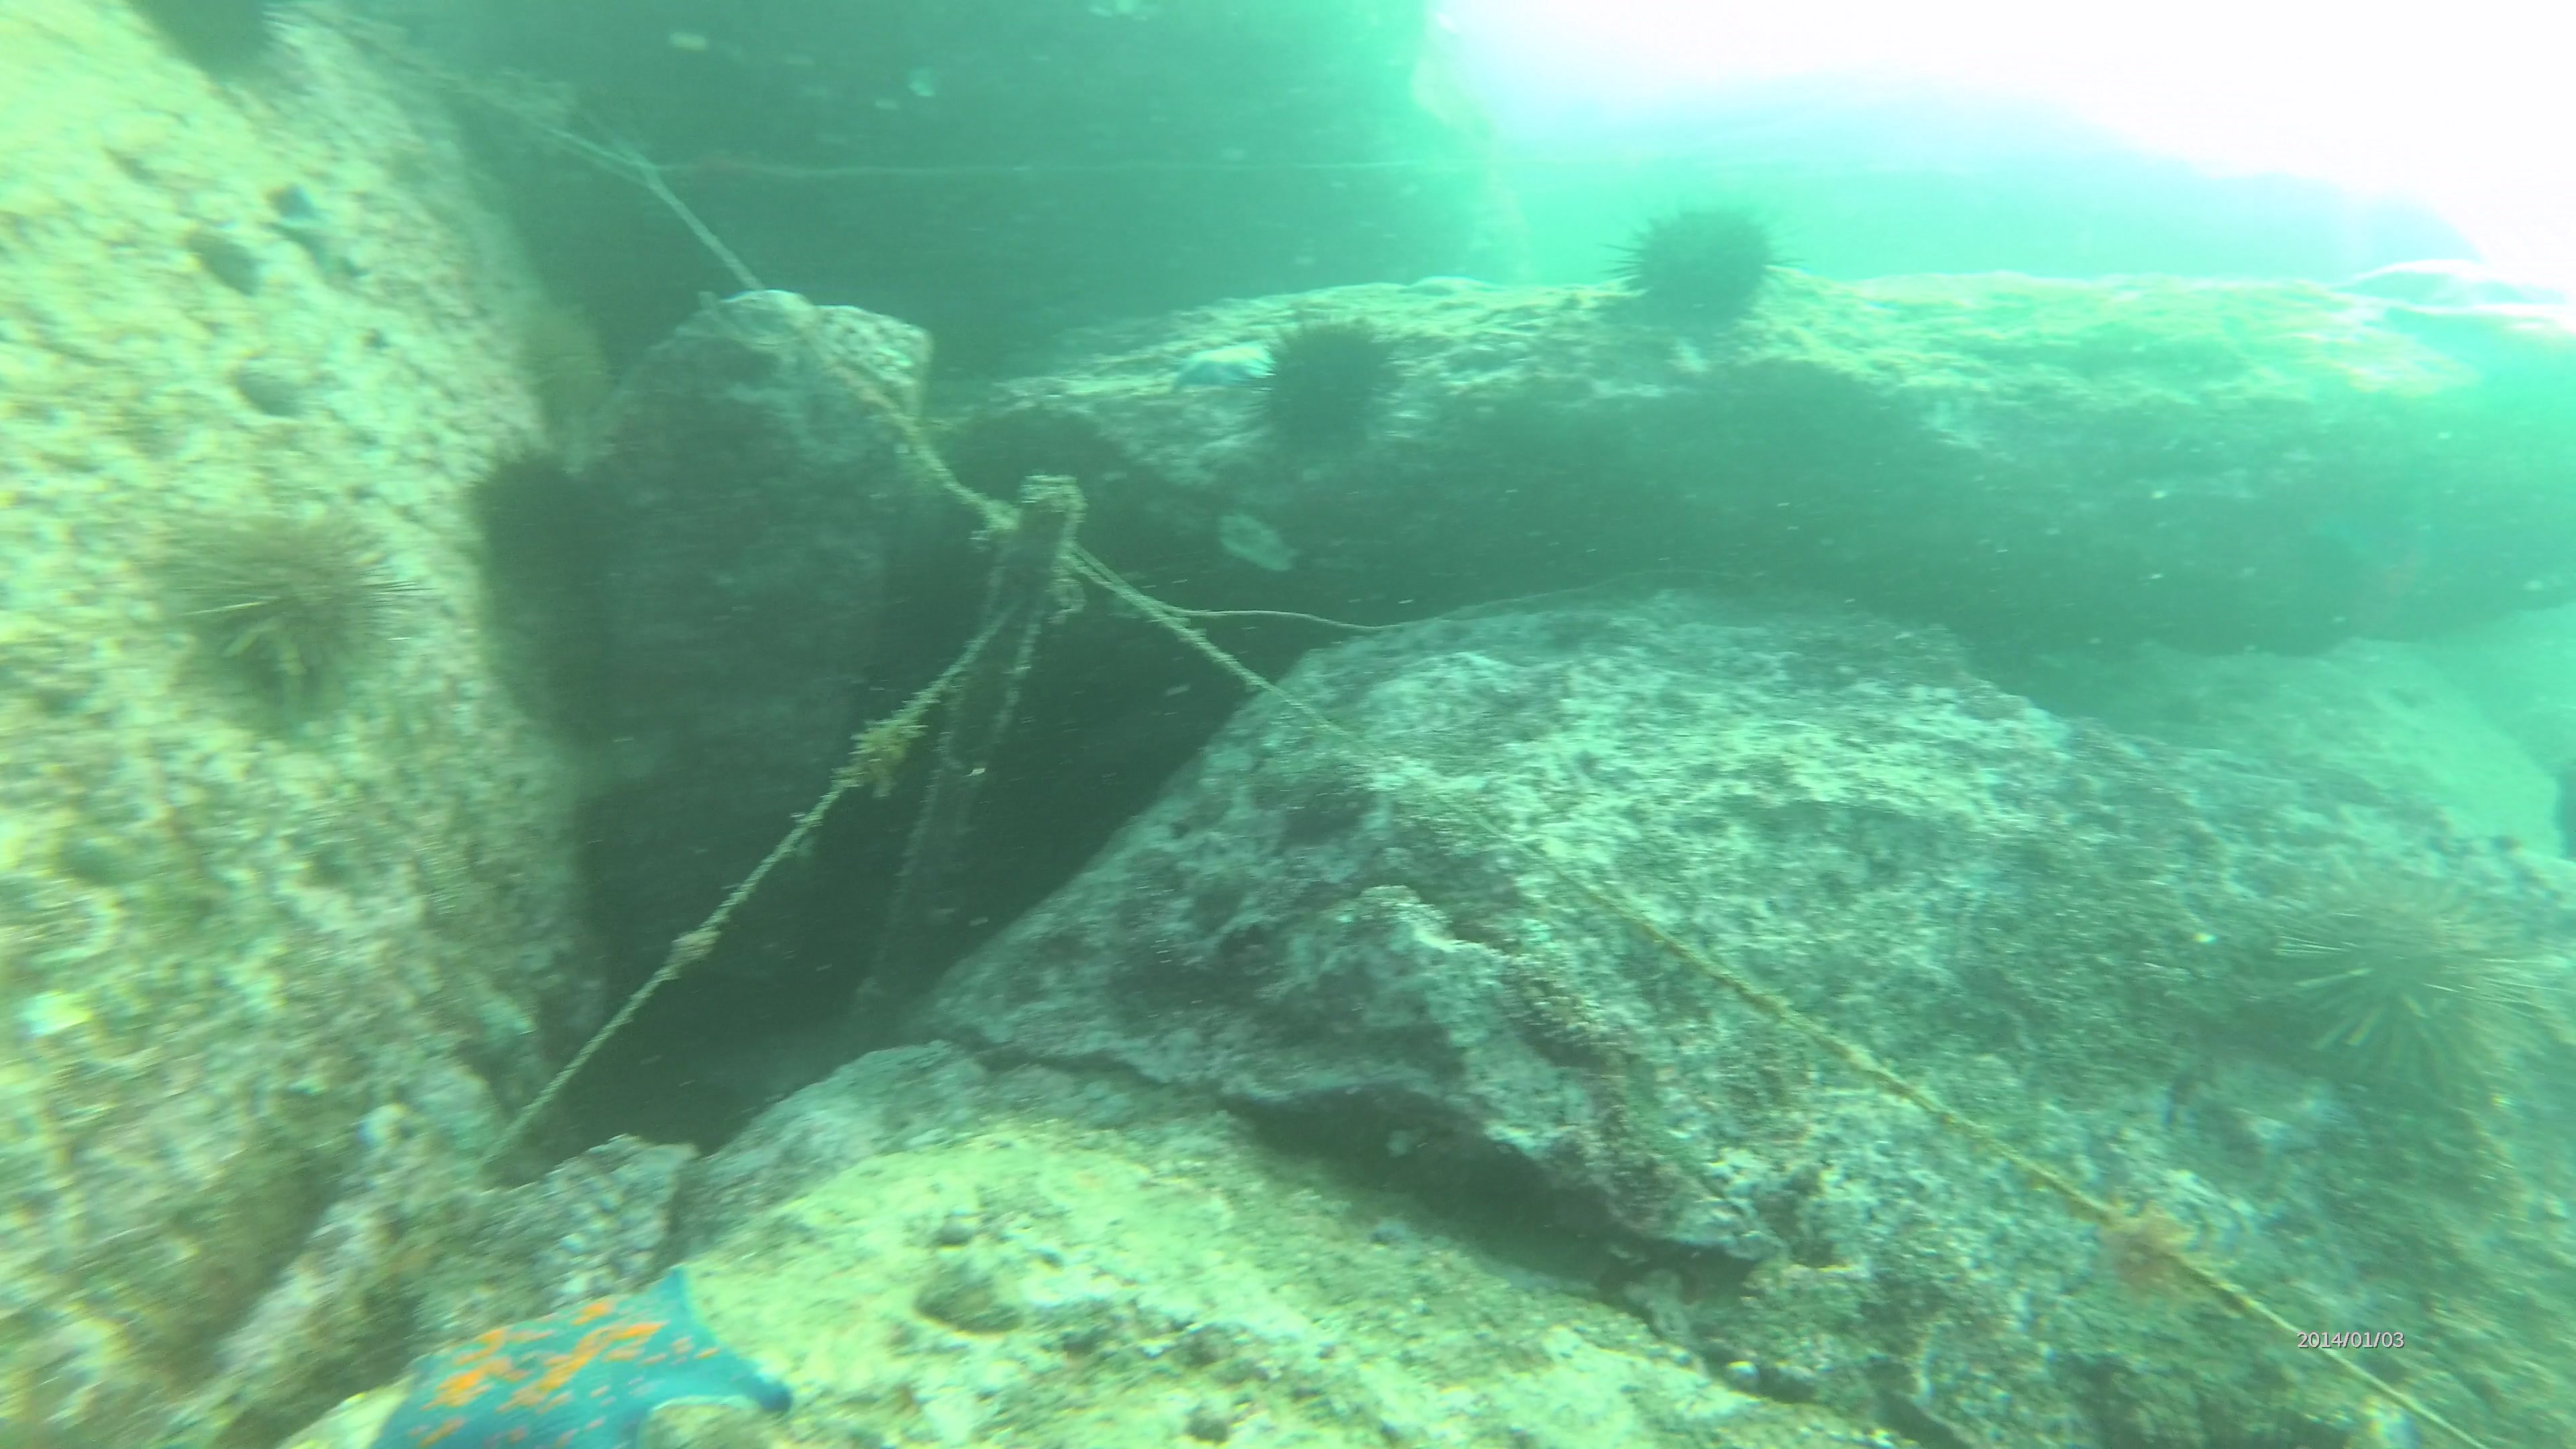echinus: (2261, 862, 2542, 1102), (173, 511, 414, 711), (1258, 313, 1403, 458), (472, 444, 607, 586), (1629, 202, 1776, 326), (513, 308, 619, 432), (133, 0, 287, 74)
starfish: (380, 1270, 791, 1449), (260, 175, 359, 278), (1166, 331, 1281, 400)
